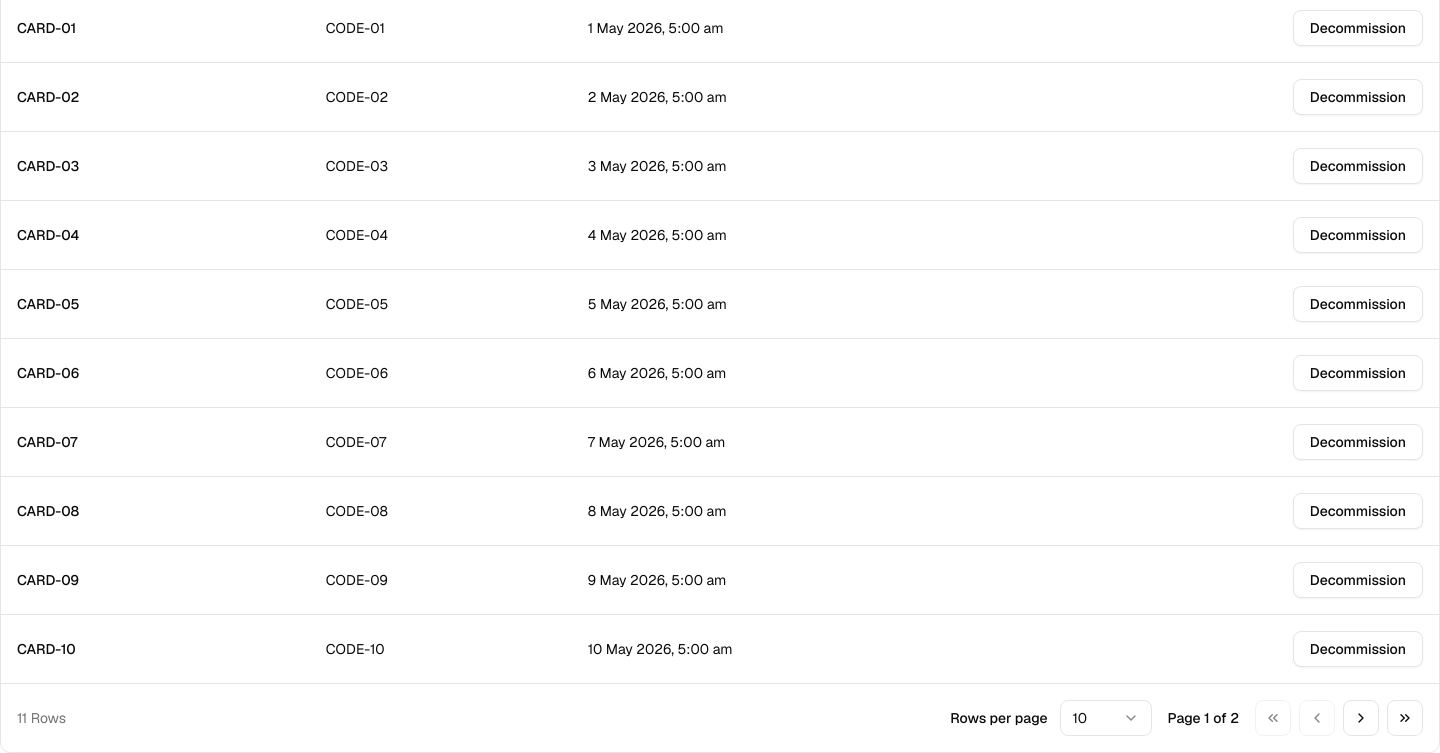
Test: CardsInventoryPage › adds pagination and updates visible rows when the page changes
(page scrolled)
Click the button named "Go to next page" at {"x": 1361, "y": 718}, box 1343,700 -> 1379,736
(page scrolled)
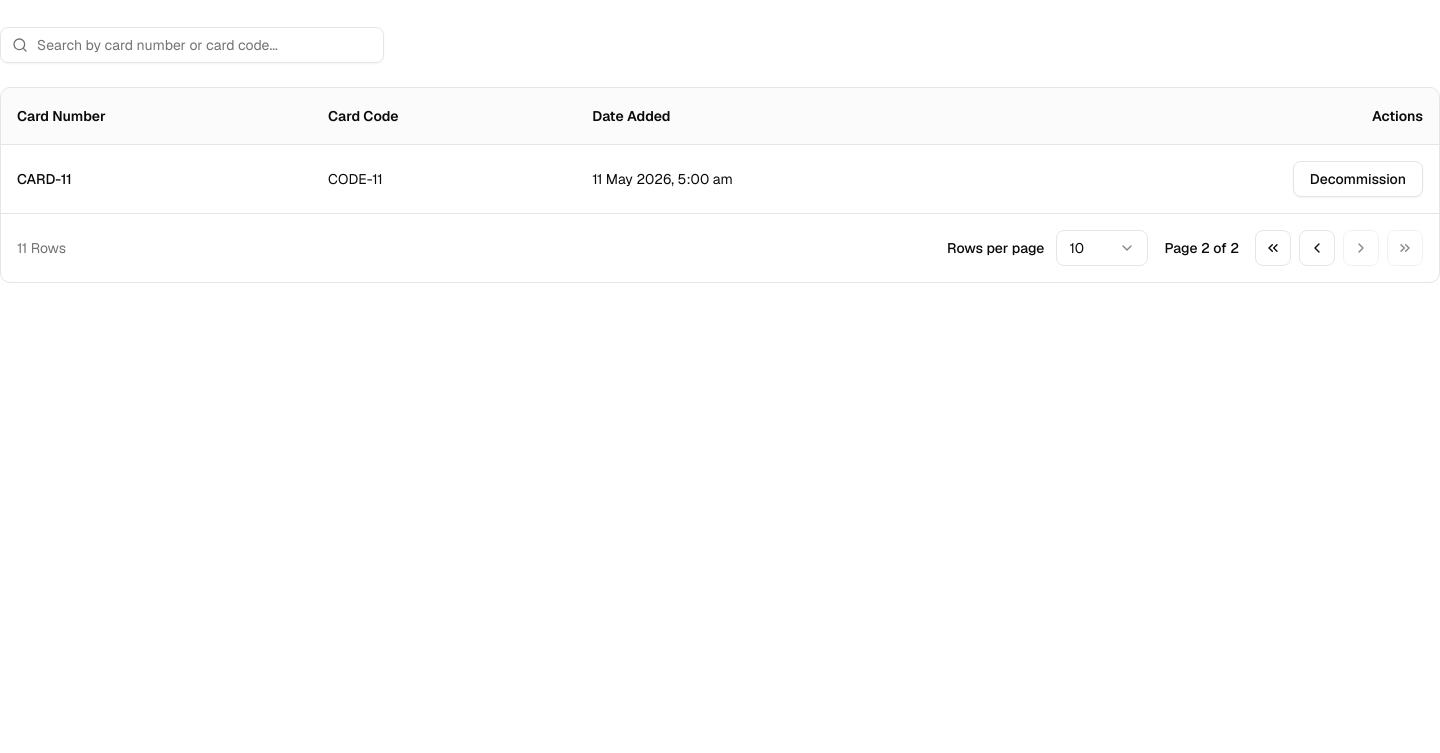
Now the text "Page 2 of 2" is shown, box 1164,238 -> 1239,258
